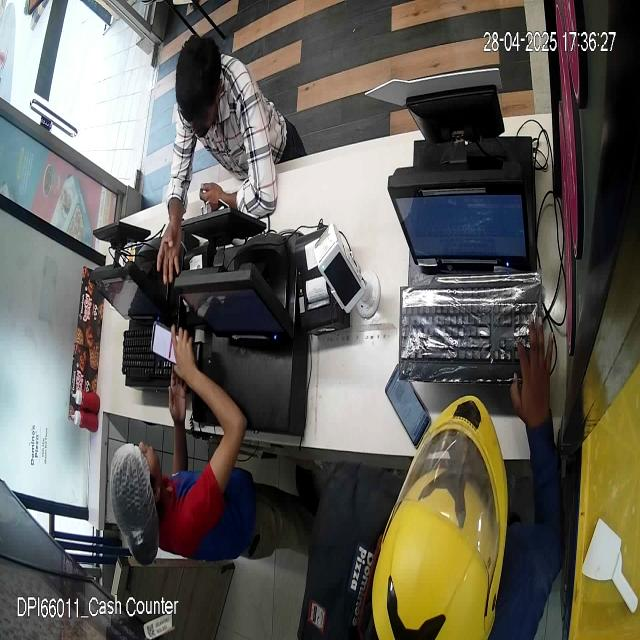helmet: (372, 397, 507, 639)
no_helmet: (175, 37, 221, 139)
